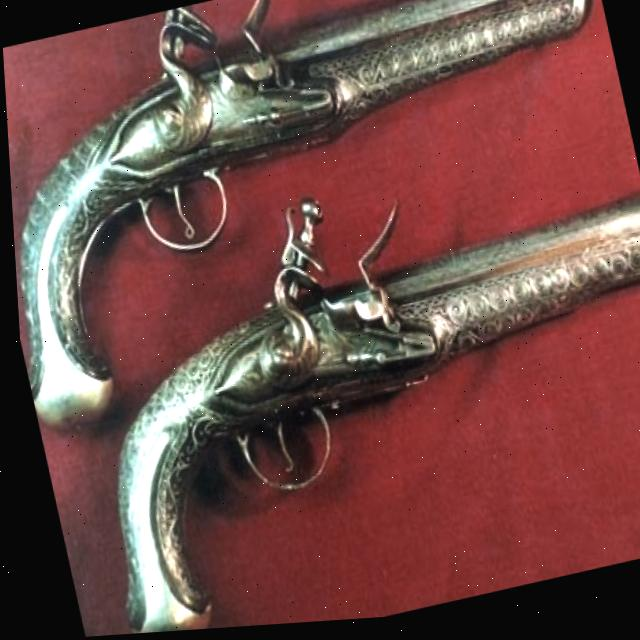pistol: (37, 132, 640, 638), (0, 0, 640, 438)
